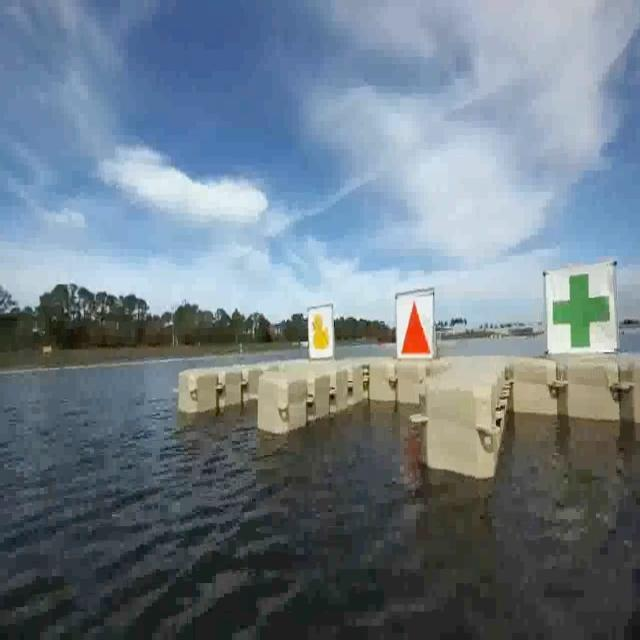blue-cross: (546, 269, 610, 351)
red-dot: (396, 292, 433, 358)
yellow-duck: (310, 313, 329, 353)
